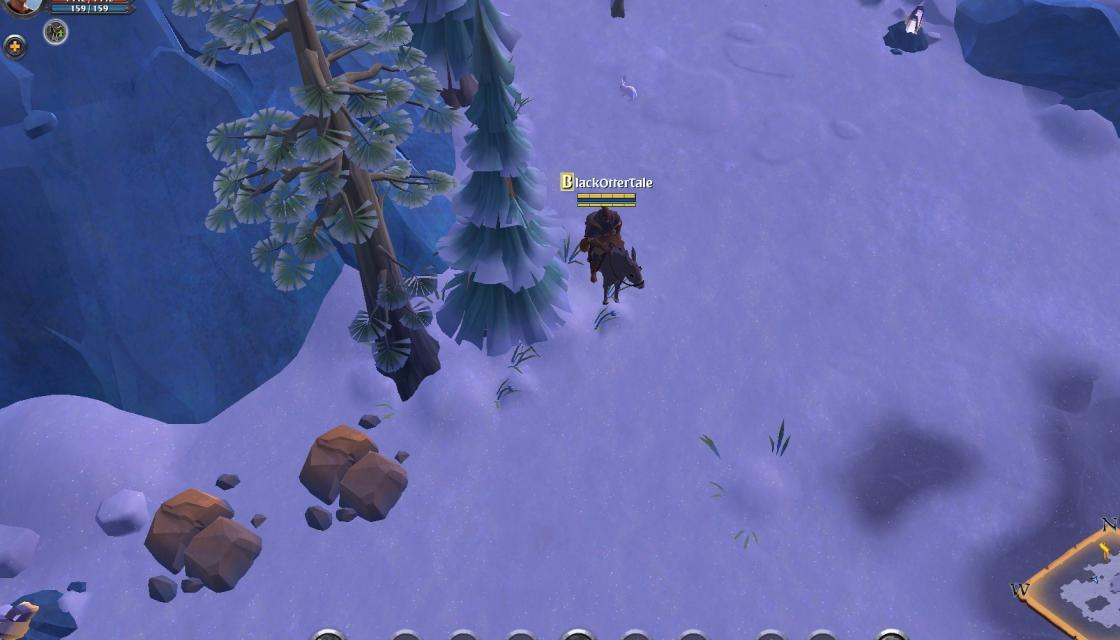copperore: (0, 582, 80, 640), (882, 4, 934, 52)
limestone: (141, 483, 263, 606), (298, 422, 408, 534)
